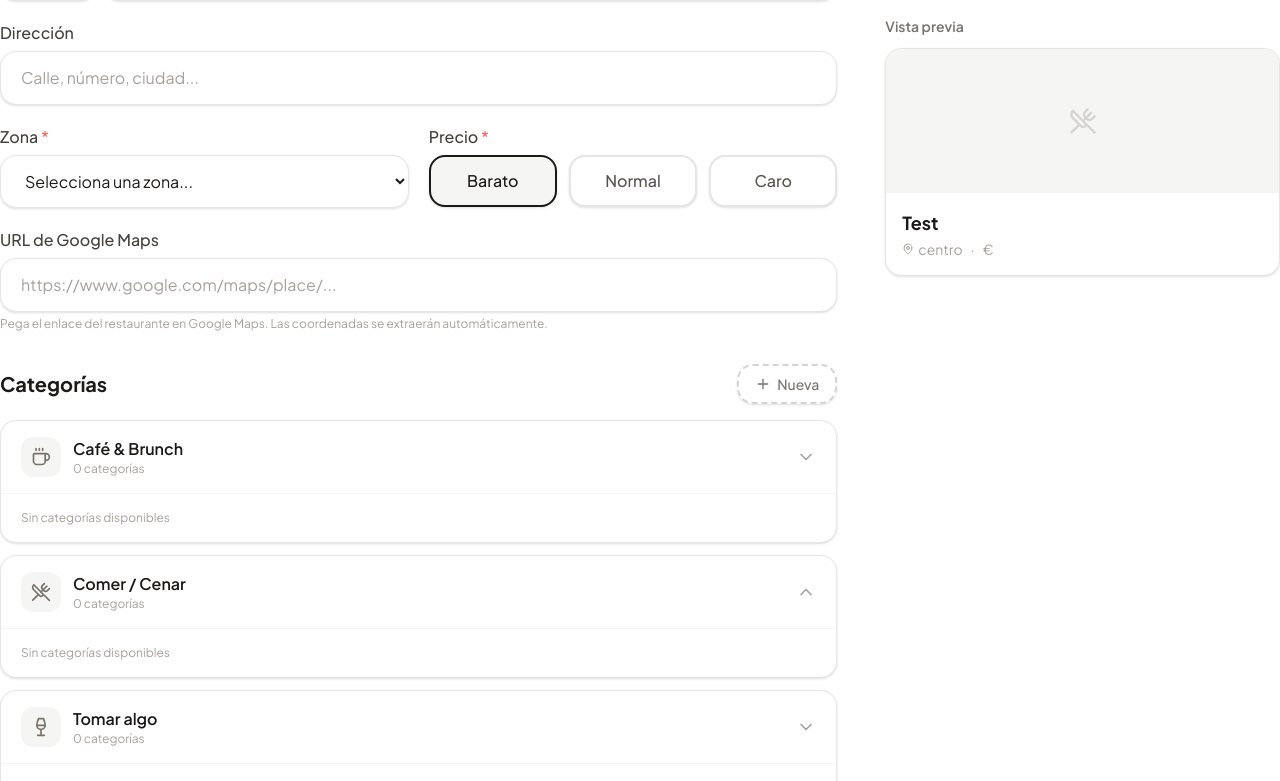
Test: RestaurantForm staff category creation › opens dialog when Nueva is clicked
(page scrolled)
Click the button "Nueva" at coordinates (787, 384), box [737,364,837,404]
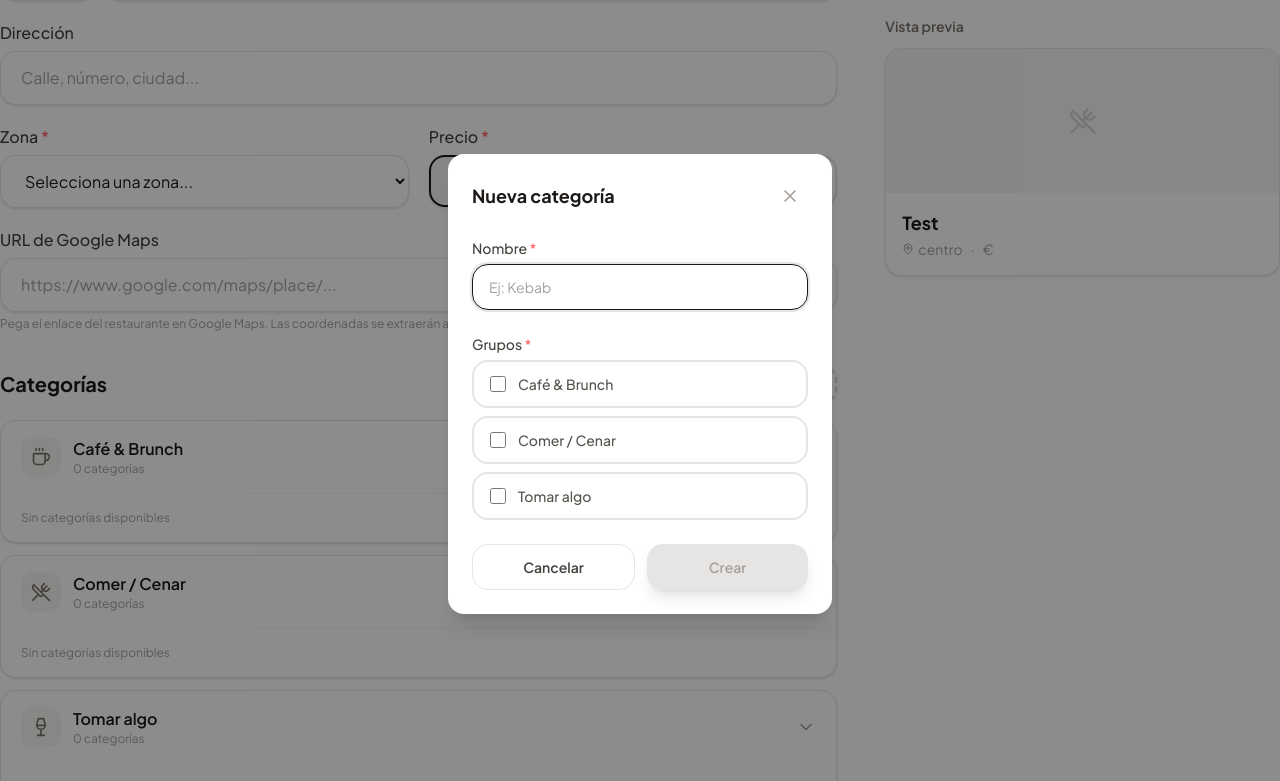
Expected: the heading "Nueva categoría" is shown, [472,182,615,210]
Expected: the field with placeholder "Ej: Kebab" is shown, [472,264,808,310]
